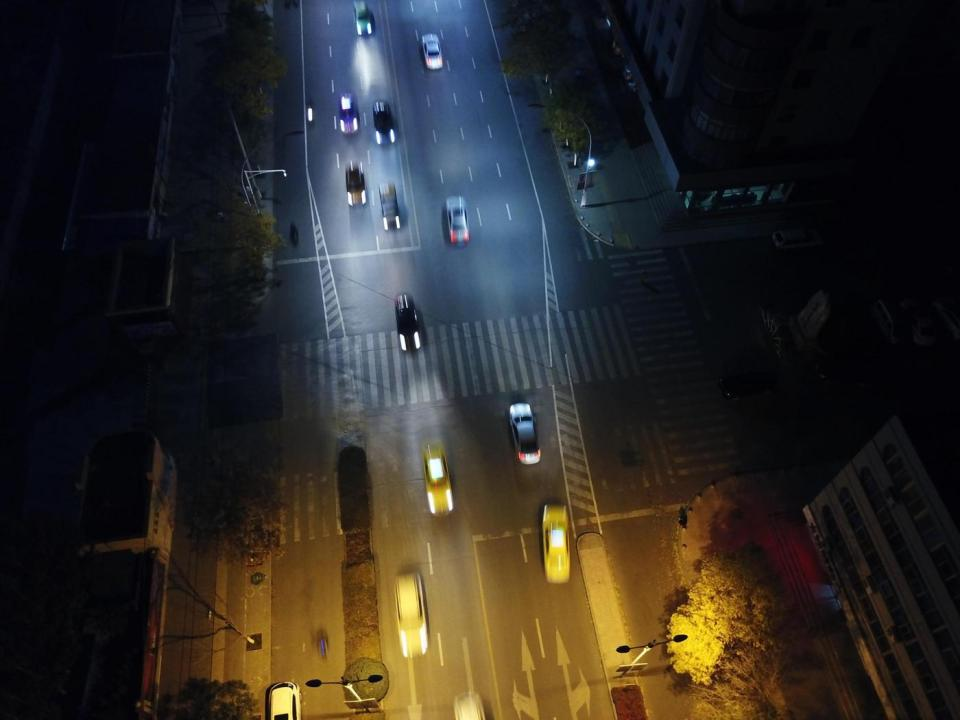car: (395, 573, 429, 661), (541, 502, 572, 582), (422, 444, 456, 514), (508, 401, 539, 463), (391, 293, 421, 349), (718, 370, 775, 397), (814, 359, 867, 386), (268, 679, 300, 720), (378, 178, 402, 231), (444, 195, 468, 245), (936, 296, 960, 342), (774, 225, 824, 247), (372, 101, 396, 145), (420, 32, 443, 70), (455, 690, 484, 720), (337, 93, 358, 133), (346, 160, 364, 206), (352, 1, 373, 36)
van: (900, 298, 936, 348), (870, 298, 903, 344)
